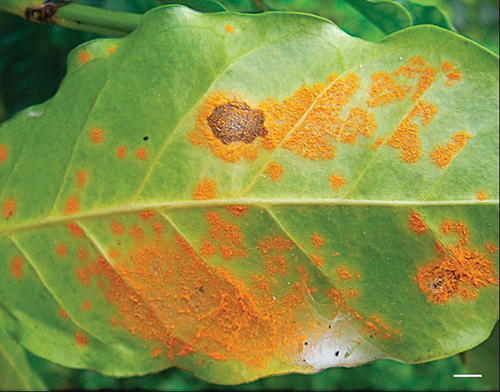roya: (74, 52, 493, 373)
